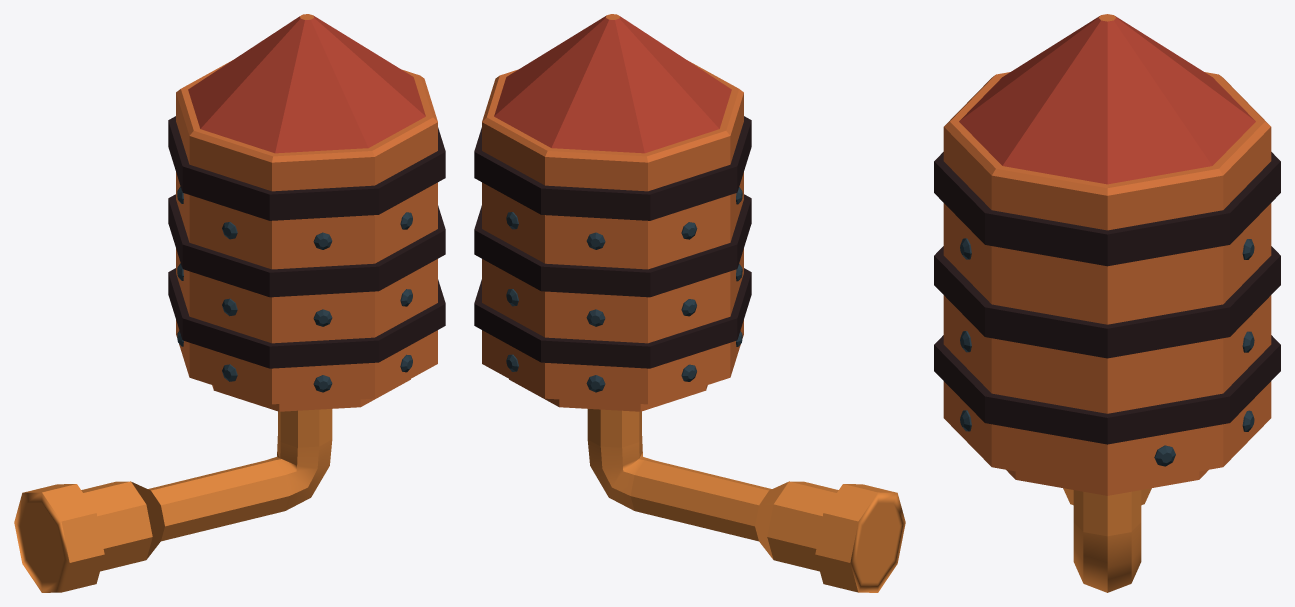
Rendered from shuigang.fbx.
3 renders of one model, left to right at view 1: azimuth 30°, elevation 25°; view 2: azimuth 150°, elevation 25°; view 3: azimuth 270°, elevation 25°, orthographic. The views are drawn at different scales.
Parts seen in each view (by area): view 1: polySurface2465; view 2: polySurface2465; view 3: polySurface2465.
Boxes of the visible parts, x1,y1,x2,y2 form: polySurface2465: (14,14,445,592); polySurface2465: (474,14,905,592); polySurface2465: (934,14,1280,592).
Bounding box in the file's own units: 566 × 710 × 362.
